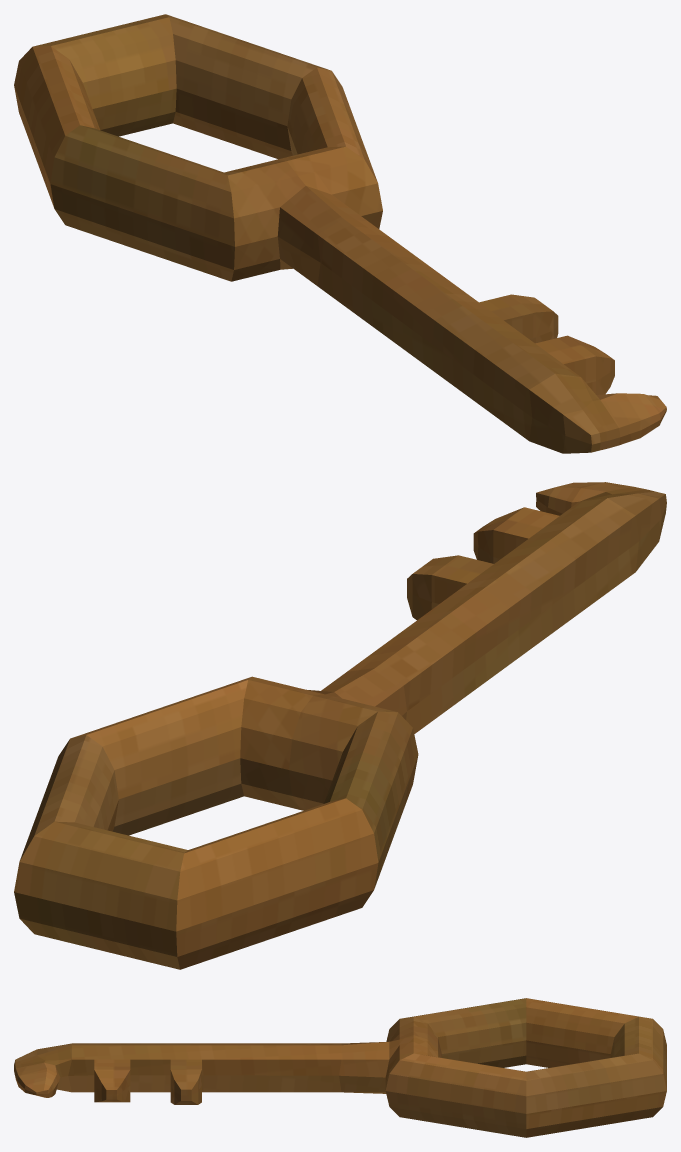
The model's file is llave.fbx.
3 views of the same model, one above another, from view 1: azimuth 30°, elevation 25°; view 2: azimuth 150°, elevation 25°; view 3: azimuth 270°, elevation 25° (orthographic). The views are drawn at different scales.
Parts seen in each view (by area): view 1: Llave; view 2: Llave; view 3: Llave.
Boxes of the visible parts, x1,y1,x2,y2 form: Llave: (14,14,666,453); Llave: (14,482,666,969); Llave: (14,998,666,1137).
Bounding box in the file's own units: 3 × 1 × 9.
Materials: 1 (1 with a texture image).
